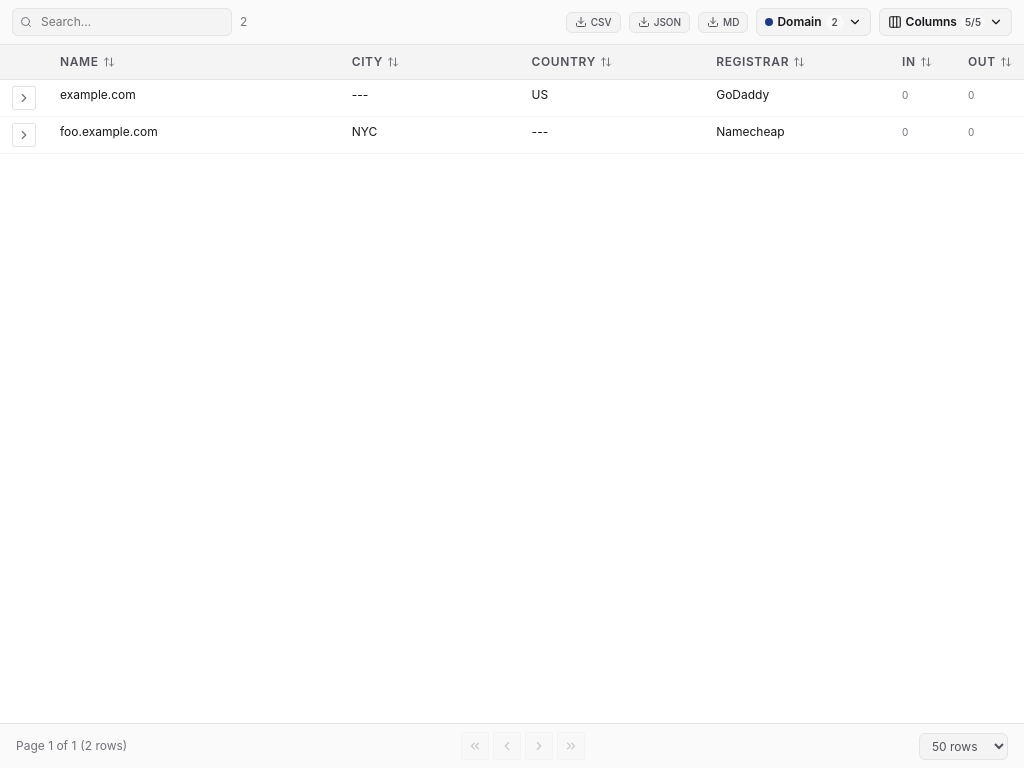
NodeDetailsTable › "Hide all" button hides every dynamic column; "Show all" restores them
expect the row "Name city country registrar In Out" is shown: met, box [0, 45, 1023, 80]
Click the button "Columns 5/5".
click(945, 22)  # box [879, 8, 1012, 36]
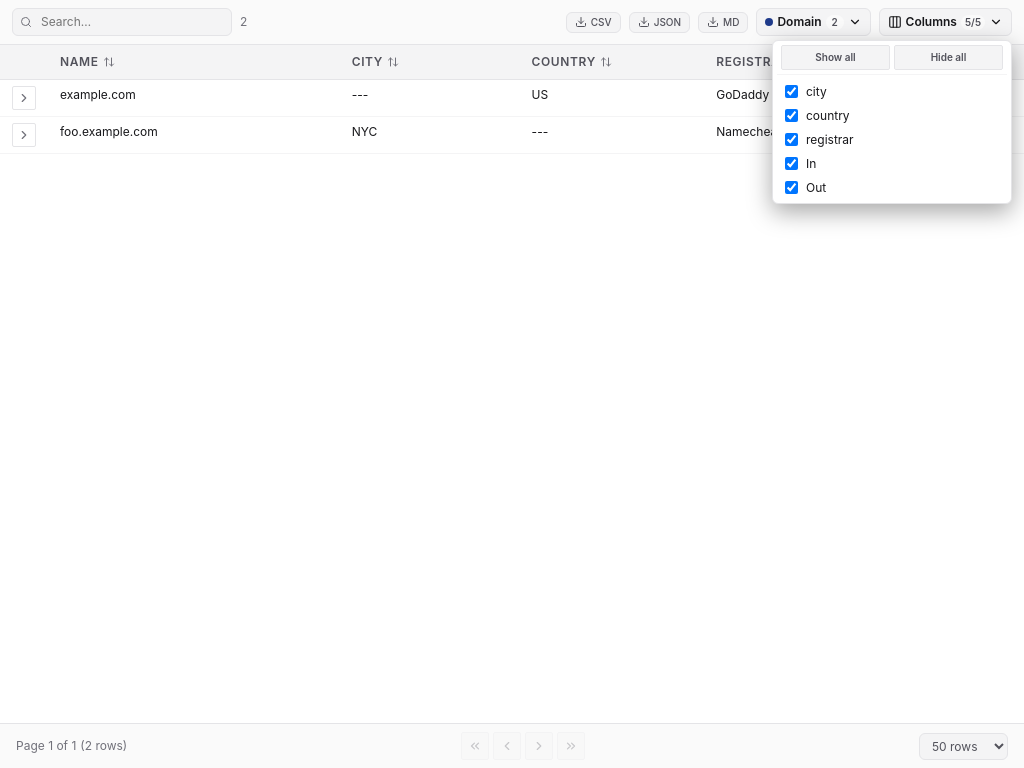
expect the button "Hide all" is shown: met
Click "Hide all"
Click the button "Hide all".
click(948, 58)  # box [894, 45, 1003, 70]
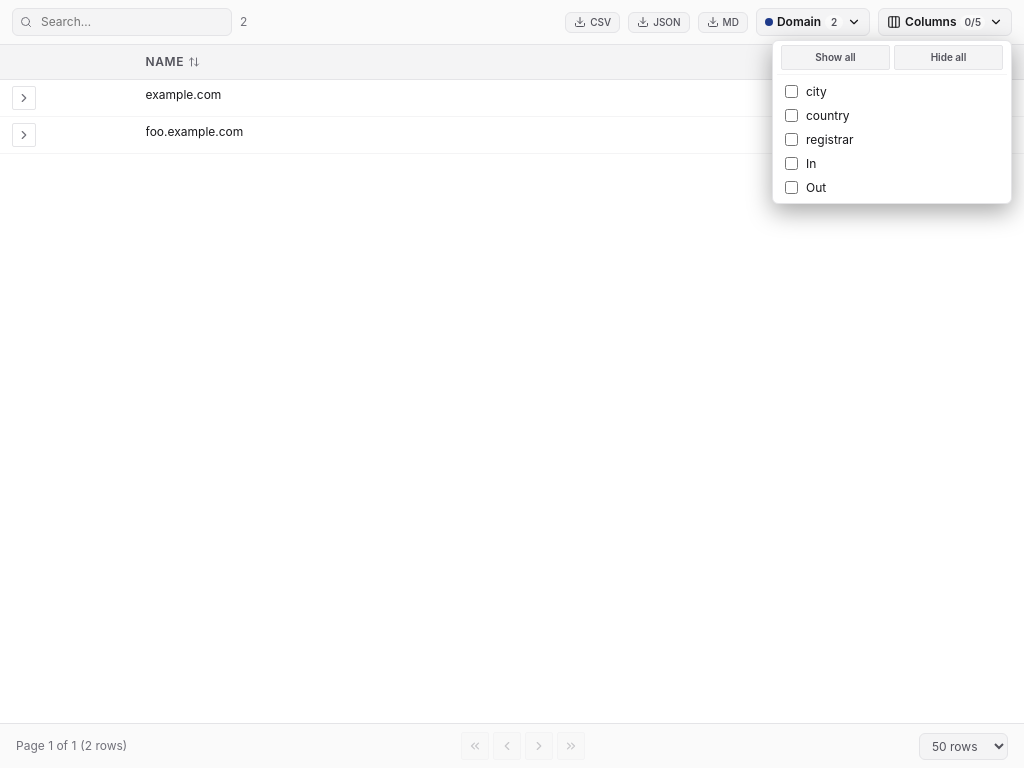
Click "Show all"
Click the button "Show all".
click(836, 58)  # box [781, 45, 890, 70]
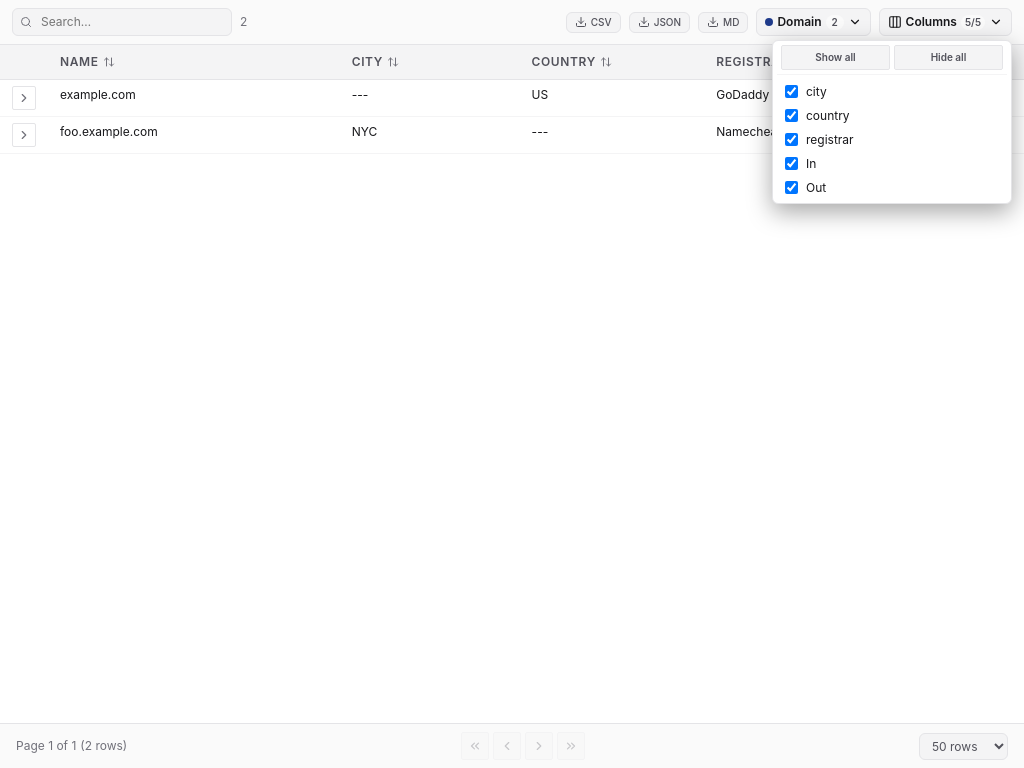
expect the row "Name city country registrar In Out" is shown: met, box [0, 45, 1023, 80]
